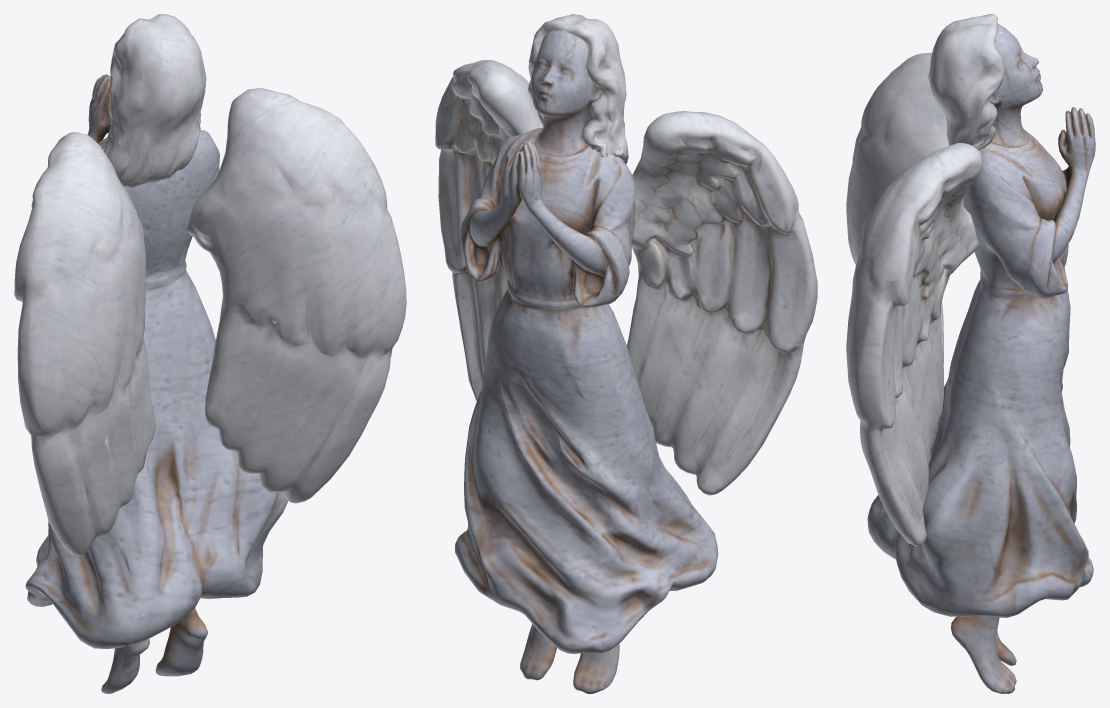
File: aniel_lod.gltf
The picture shows the model from 3 angles, left to right: view 1: azimuth 30°, elevation 25°; view 2: azimuth 150°, elevation 25°; view 3: azimuth 270°, elevation 25°; orthographic projection. The views are drawn at different scales.
Parts seen in each view (by area): view 1: aniel; view 2: aniel; view 3: aniel.
Part boxes in pixels (x1,y1,x2,y2): aniel: (14,14,406,693); aniel: (435,14,817,693); aniel: (846,14,1095,693).
Bounding box in the file's own units: 1.05 × 1.76 × 0.6047.
Materials: 3 (3 with a texture image).
